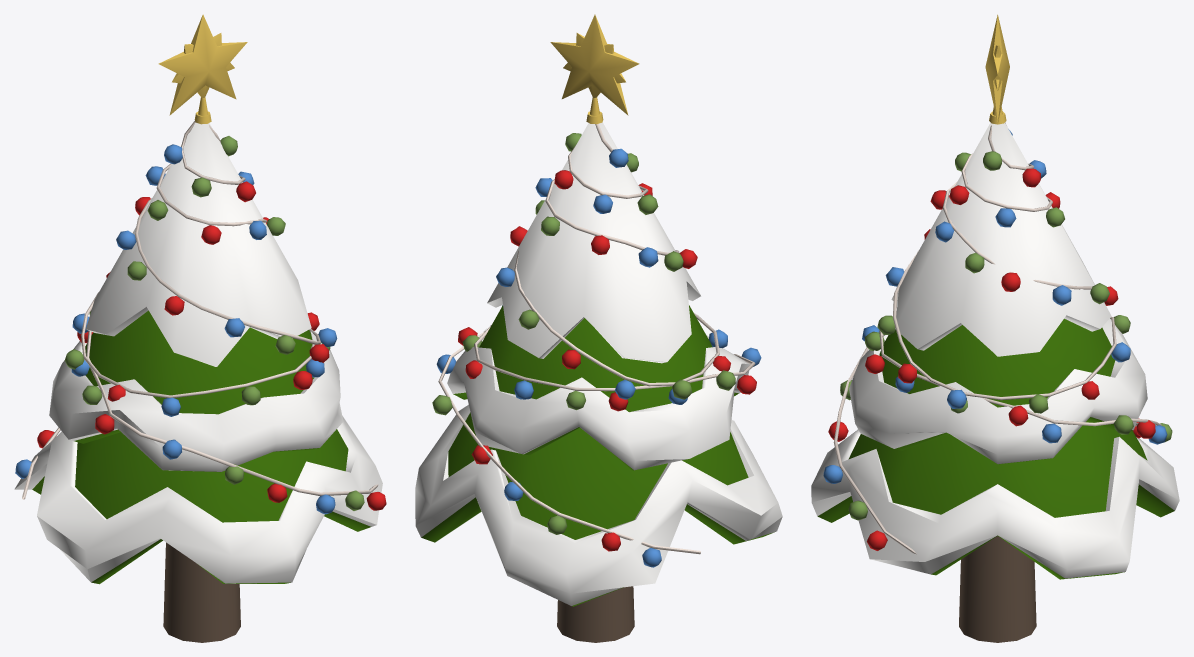
Rendered from Christmas_Tree_4.glb.
The picture shows the model from 3 angles, left to right: view 1: azimuth 30°, elevation 25°; view 2: azimuth 150°, elevation 25°; view 3: azimuth 270°, elevation 25°; orthographic projection.
Visible parts, largest first — view 1: Christmas_Tree_4; view 2: Christmas_Tree_4; view 3: Christmas_Tree_4.
Part boxes in pixels (box(x1,y1,x2,y2)): Christmas_Tree_4: box(14, 14, 386, 642); Christmas_Tree_4: box(415, 14, 782, 642); Christmas_Tree_4: box(811, 14, 1179, 642).
Bounding box in the file's own units: 1.45 × 2.72 × 1.48.
Materials: 1 (1 with a texture image).
